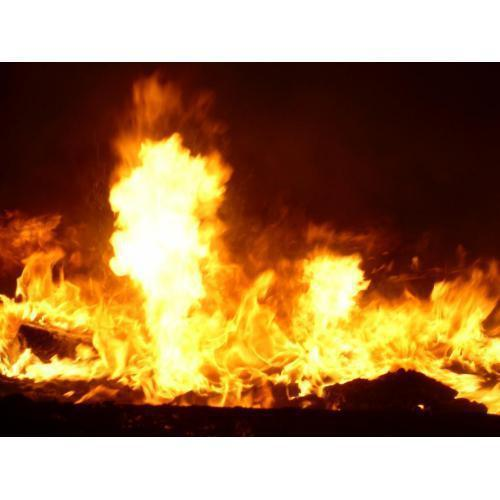fire: (2, 83, 498, 420)
